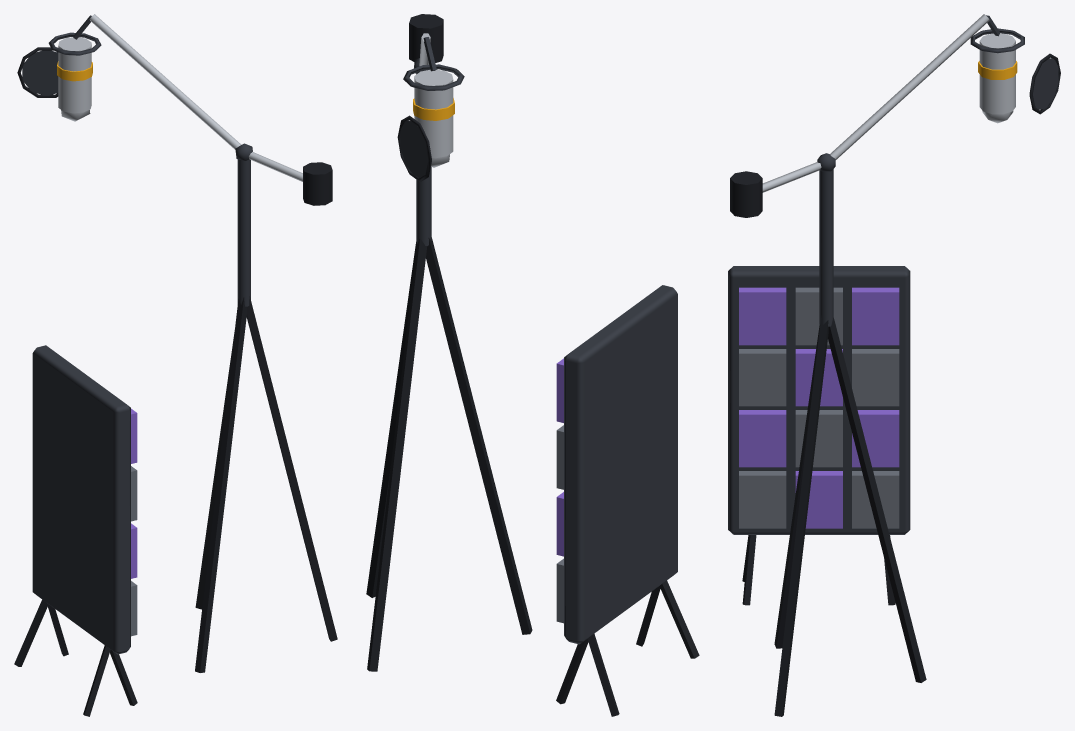
The model's file is station_buffer_ausstattung_3_3.glb.
3 renders of one model, left to right at view 1: azimuth 30°, elevation 25°; view 2: azimuth 150°, elevation 25°; view 3: azimuth 270°, elevation 25°, orthographic. The views are drawn at different scales.
Visible parts, largest first — view 1: station_buffer_ausstattung_3_3; view 2: station_buffer_ausstattung_3_3; view 3: station_buffer_ausstattung_3_3.
Part boxes in pixels (<box>): station_buffer_ausstattung_3_3: <box>14,14,337,716</box>; station_buffer_ausstattung_3_3: <box>366,14,699,716</box>; station_buffer_ausstattung_3_3: <box>728,14,1060,716</box>.
Bounding box in the file's own units: 0.9079 × 1.9 × 0.913.
